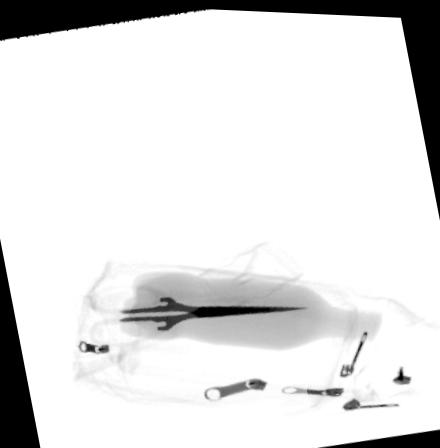Scissors: (85, 279, 307, 345)
